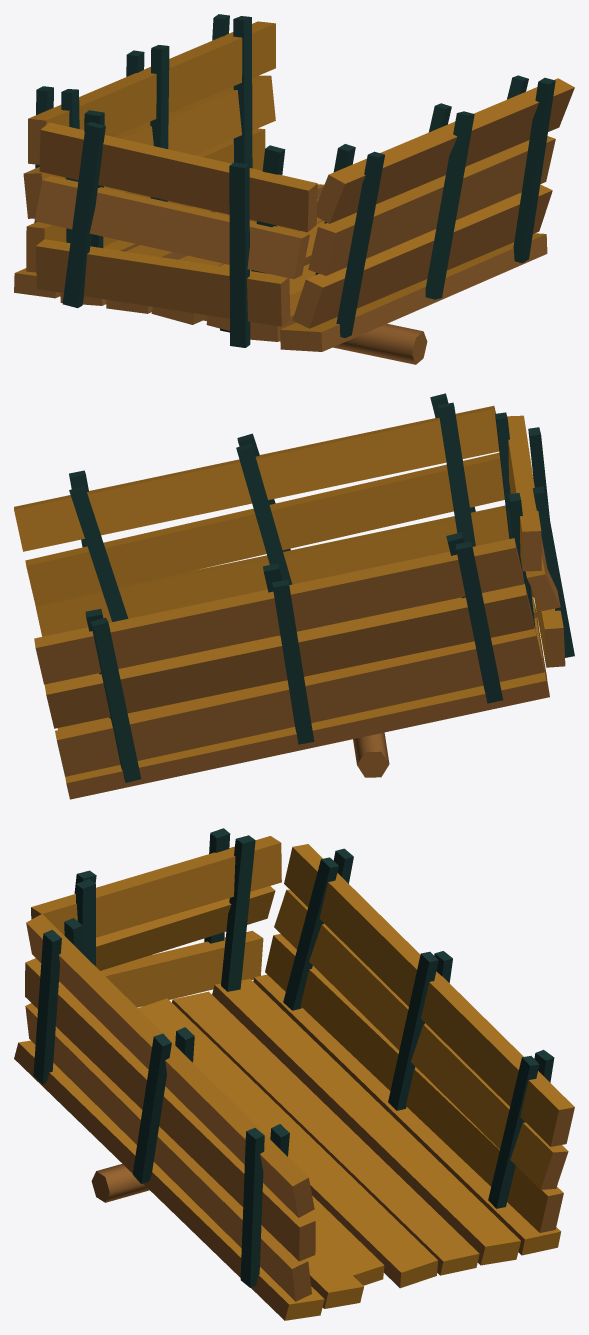
The model's file is carroca_base.fbx.
3 renders of one model, top to bottom at view 1: azimuth 30°, elevation 25°; view 2: azimuth 150°, elevation 25°; view 3: azimuth 270°, elevation 25°, orthographic. The views are drawn at different scales.
Parts seen in each view (by area): view 1: carroca.base; view 2: carroca.base; view 3: carroca.base.
Boxes of the visible parts, x1,y1,x2,y2 form: carroca.base: (14, 14, 574, 364); carroca.base: (14, 393, 574, 799); carroca.base: (14, 828, 574, 1320).
Size of the model in its own units: 450 by 213 by 405.
